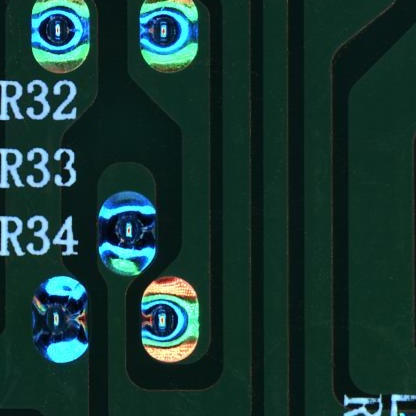spot: (96, 190, 158, 276), (31, 275, 90, 364), (140, 276, 199, 363), (137, 1, 200, 77), (29, 1, 92, 73)
